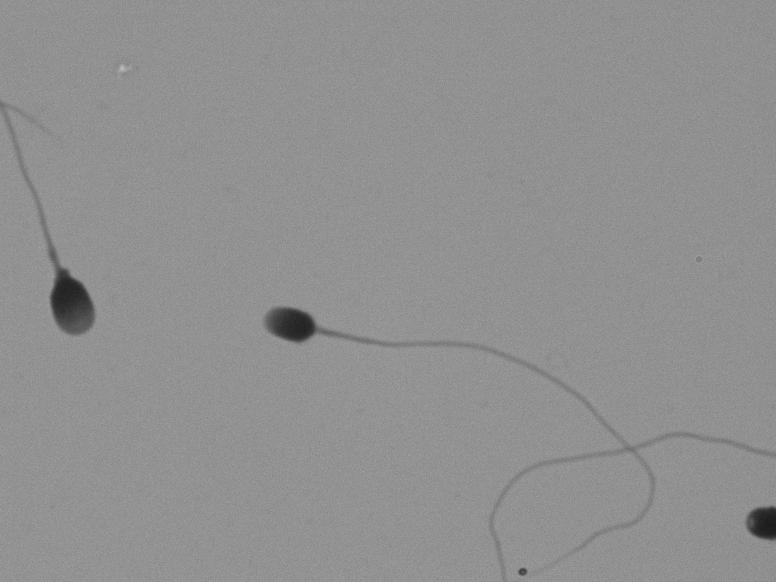Abnormal: (7, 102, 138, 389)
Normal: (207, 224, 647, 499)
